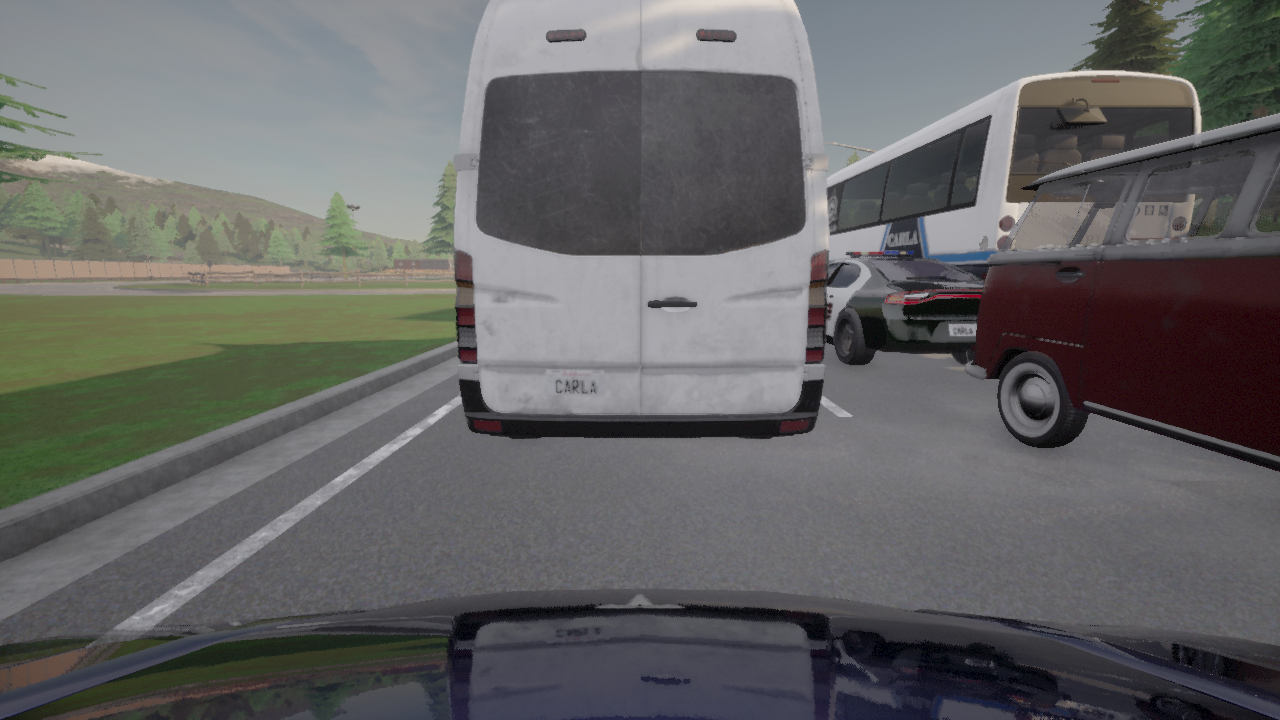cyclist: (0, 588, 1279, 719), (454, 0, 828, 438), (963, 112, 1279, 472), (826, 70, 1200, 277), (826, 251, 983, 364)
